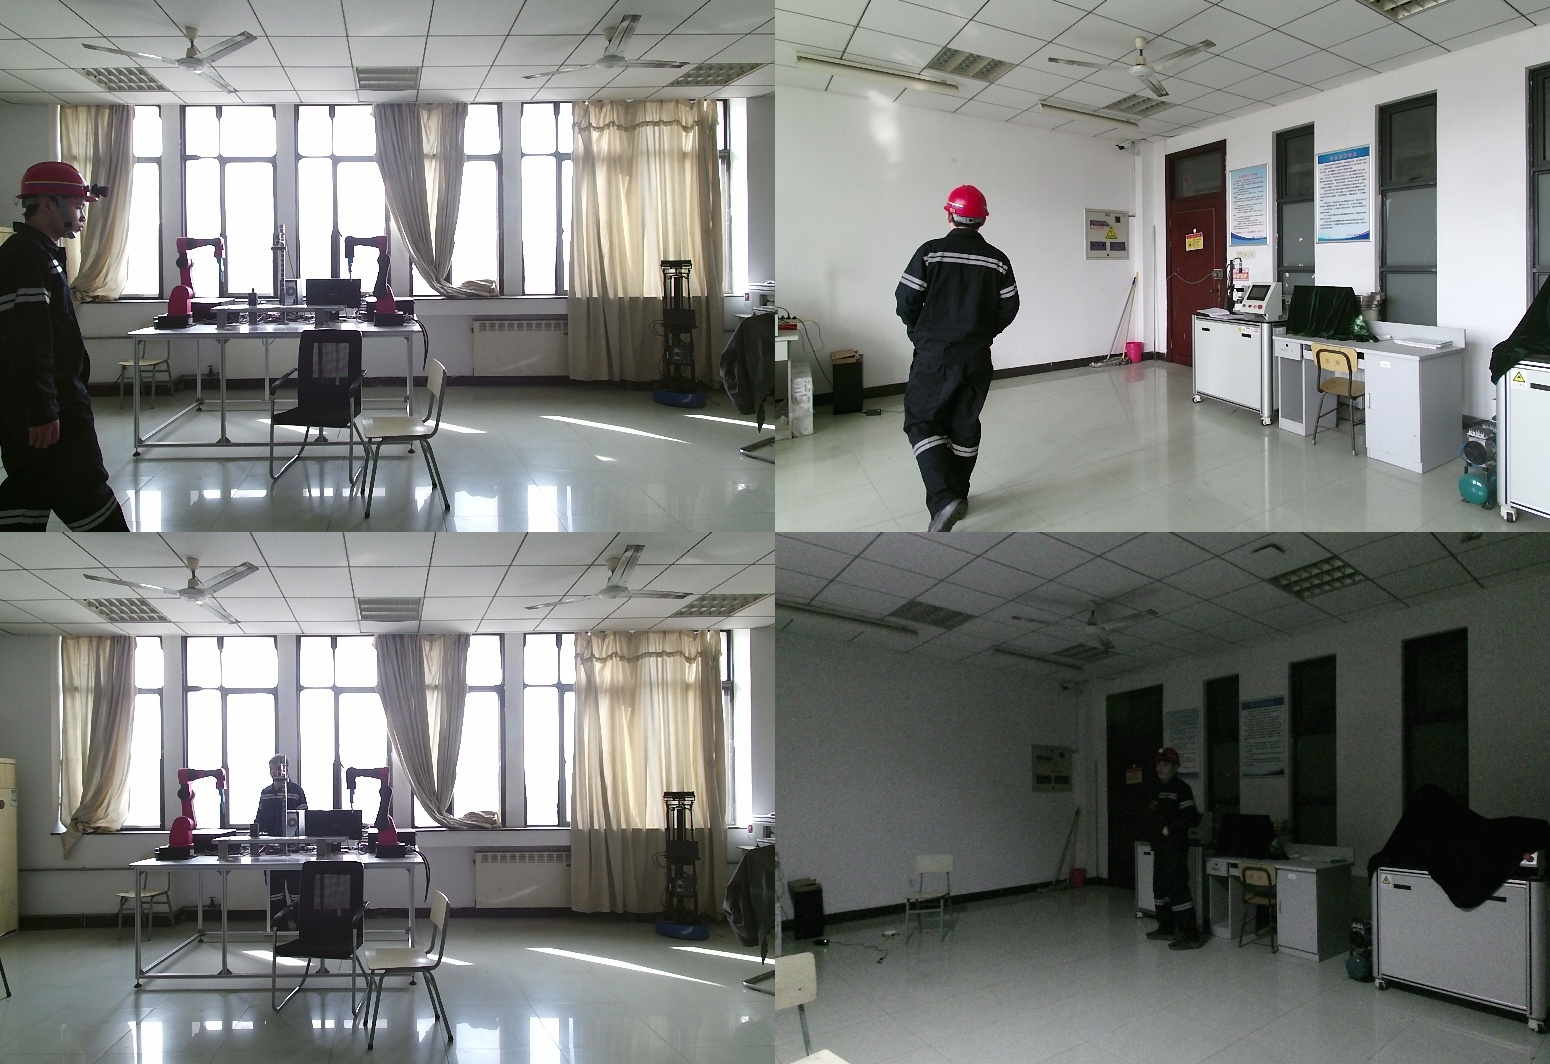person: (1, 163, 131, 532), (888, 182, 1024, 532), (1163, 747, 1229, 953), (255, 757, 319, 931)
